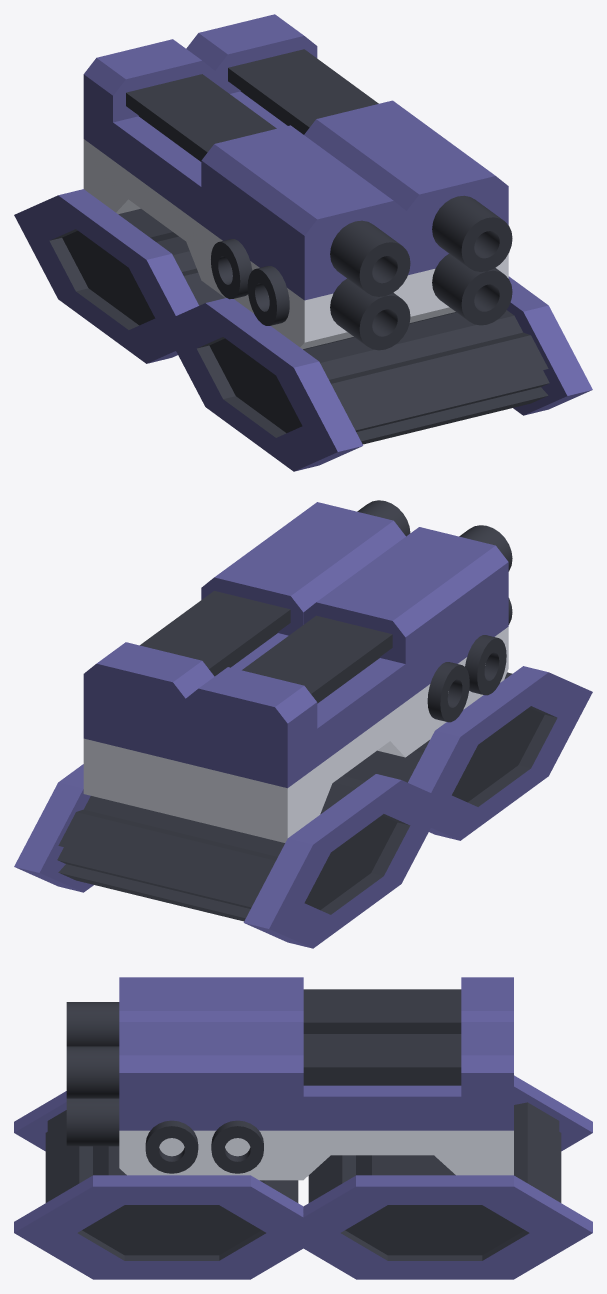
The model's file is Tank00.fbx.
The picture shows the model from 3 angles, top to bottom: view 1: azimuth 30°, elevation 25°; view 2: azimuth 150°, elevation 25°; view 3: azimuth 270°, elevation 25°; orthographic projection. The views are drawn at different scales.
Parts seen in each view (by area): view 1: clipBarrel_large (×2), blaster_barrelDouble (×2), blaster_centerDetail (×2), attachment_barrelThin (×2); view 2: blaster_centerDetail (×2), clipBarrel_large (×2), blaster_barrelDouble (×2), attachment_barrelThin (×2); view 3: clipBarrel_large (×2), blaster_centerDetail (×2), blaster_barrelDouble (×2), attachment_barrelThin (×2).
Boxes of the visible parts, x1=… form: clipBarrel_large (×2): x1=14, y1=189, x2=592, y2=471; blaster_barrelDouble (×2): x1=231, y1=122, x2=512, y2=350; blaster_centerDetail (×2): x1=83, y1=14, x2=421, y2=297; attachment_barrelThin (×2): x1=211, y1=239, x2=289, y2=325; blaster_centerDetail (×2): x1=83, y1=556, x2=434, y2=842; clipBarrel_large (×2): x1=14, y1=666, x2=592, y2=948; blaster_barrelDouble (×2): x1=244, y1=500, x2=512, y2=730; attachment_barrelThin (×2): x1=427, y1=635, x2=506, y2=722; clipBarrel_large (×2): x1=14, y1=1075, x2=592, y2=1279; blaster_centerDetail (×2): x1=251, y1=977, x2=513, y2=1180; blaster_barrelDouble (×2): x1=66, y1=977, x2=250, y2=1175; attachment_barrelThin (×2): x1=145, y1=1120, x2=263, y2=1173.
Bounding box in the file's own units: 10 × 8.7 × 22.
